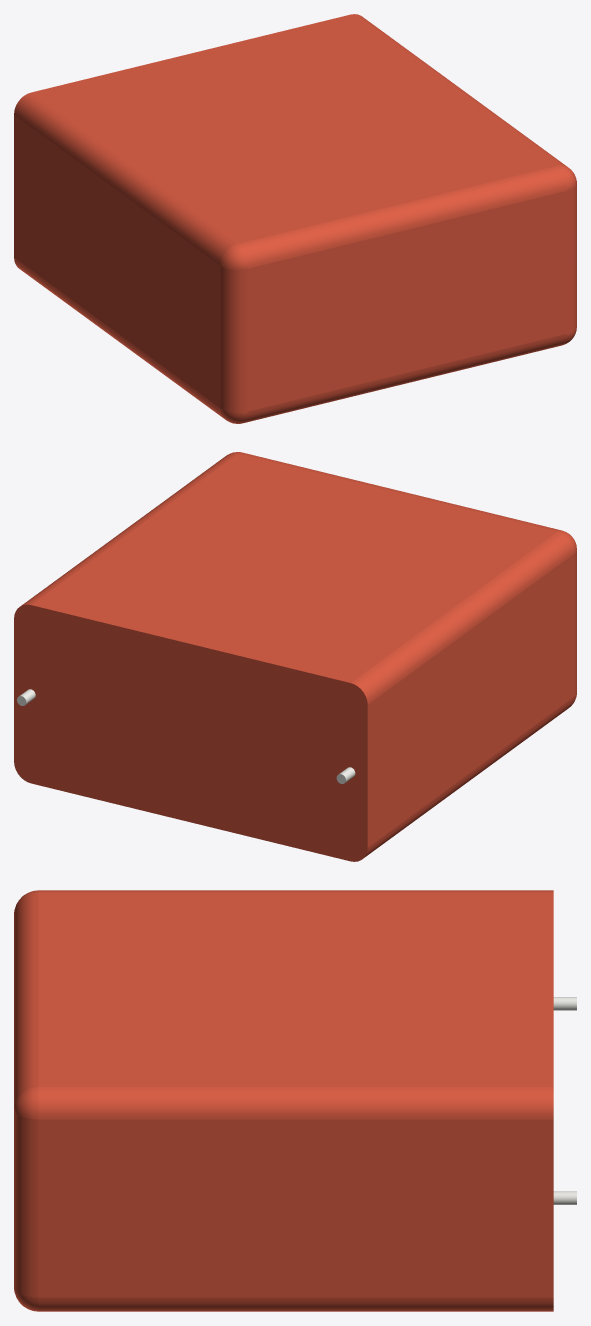
File: C_Rect_L41.5mm_W20.0mm_P37.50mm_MKS4.glb
3 renders of one model, top to bottom at view 1: azimuth 30°, elevation 25°; view 2: azimuth 150°, elevation 25°; view 3: azimuth 270°, elevation 25°, orthographic. The views are drawn at different scales.
Visible parts, largest first — view 1: Shape_IndexedFaceSet.009, Shape_IndexedFaceSet.007, Shape_IndexedFaceSet, Shape_IndexedFaceSet.017, Shape_IndexedFaceSet.004, Shape_IndexedFaceSet.002, Shape_IndexedFaceSet.015, Shape_IndexedFaceSet.001, Shape_IndexedFaceSet.011, Shape_IndexedFaceSet.016, Shape_IndexedFaceSet.008; view 2: Shape_IndexedFaceSet.009, Shape_IndexedFaceSet.003, Shape_IndexedFaceSet, Shape_IndexedFaceSet.004, Shape_IndexedFaceSet.001, Shape_IndexedFaceSet.011, Shape_IndexedFaceSet.017; view 3: Shape_IndexedFaceSet.009, Shape_IndexedFaceSet.012, Shape_IndexedFaceSet.011, Shape_IndexedFaceSet.010, Shape_IndexedFaceSet.017, Shape_IndexedFaceSet.016, Shape_IndexedFaceSet.004, Shape_IndexedFaceSet.019.
Boxes of the visible parts, x1,y1,x2,y2 form: Shape_IndexedFaceSet.009: [31, 14, 556, 243]; Shape_IndexedFaceSet.007: [247, 191, 567, 411]; Shape_IndexedFaceSet: [14, 115, 220, 408]; Shape_IndexedFaceSet.017: [238, 166, 567, 268]; Shape_IndexedFaceSet.004: [14, 92, 237, 265]; Shape_IndexedFaceSet.002: [220, 266, 247, 412]; Shape_IndexedFaceSet.015: [243, 333, 566, 423]; Shape_IndexedFaceSet.001: [14, 257, 223, 418]; Shape_IndexedFaceSet.011: [351, 14, 566, 166]; Shape_IndexedFaceSet.016: [567, 185, 576, 333]; Shape_IndexedFaceSet.008: [220, 244, 247, 269]; Shape_IndexedFaceSet.009: [31, 454, 556, 682]; Shape_IndexedFaceSet.003: [14, 604, 367, 861]; Shape_IndexedFaceSet: [367, 554, 574, 847]; Shape_IndexedFaceSet.004: [351, 532, 574, 704]; Shape_IndexedFaceSet.001: [363, 697, 574, 858]; Shape_IndexedFaceSet.011: [21, 453, 237, 605]; Shape_IndexedFaceSet.017: [238, 452, 560, 531]; Shape_IndexedFaceSet.009: [38, 892, 553, 1086]; Shape_IndexedFaceSet.012: [38, 1119, 553, 1297]; Shape_IndexedFaceSet.011: [38, 1087, 553, 1119]; Shape_IndexedFaceSet.010: [38, 1297, 553, 1311]; Shape_IndexedFaceSet.017: [14, 892, 38, 1106]; Shape_IndexedFaceSet.016: [14, 1110, 38, 1297]; Shape_IndexedFaceSet.004: [38, 890, 553, 892]; Shape_IndexedFaceSet.019: [14, 1087, 38, 1119].
Size of the model in its own units: 16.34 by 7.87 by 18.07.
